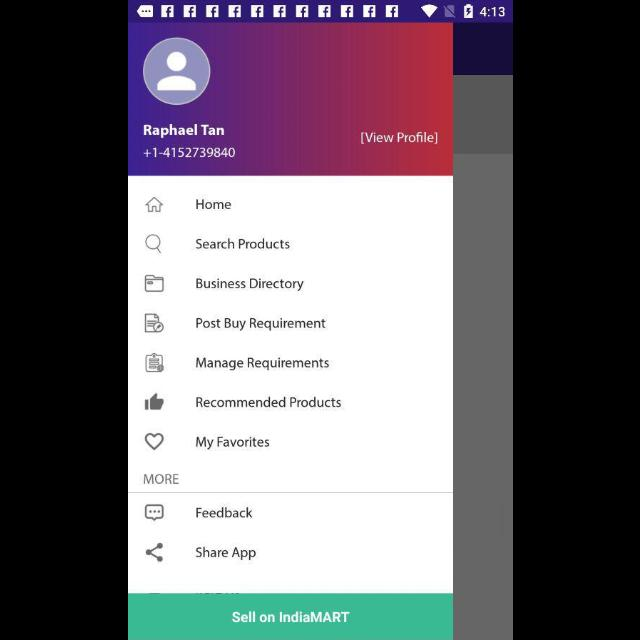icon: (142, 38, 210, 106), (144, 353, 164, 372), (145, 542, 163, 562), (144, 504, 164, 522), (144, 433, 164, 451), (144, 314, 164, 332), (144, 234, 162, 253), (144, 276, 164, 292), (144, 197, 164, 213)
image: (144, 393, 164, 411)
panel: (128, 24, 452, 640)
text: (195, 357, 329, 371), (196, 318, 324, 332), (196, 396, 340, 408), (195, 278, 302, 292), (143, 125, 225, 139), (195, 238, 289, 250), (142, 147, 235, 159), (359, 131, 436, 145), (196, 436, 270, 450), (196, 546, 254, 560), (195, 507, 252, 519), (143, 473, 179, 485), (196, 198, 230, 210)
textbutton: (128, 594, 452, 640)
uppertaskbar: (128, 1, 512, 23)
